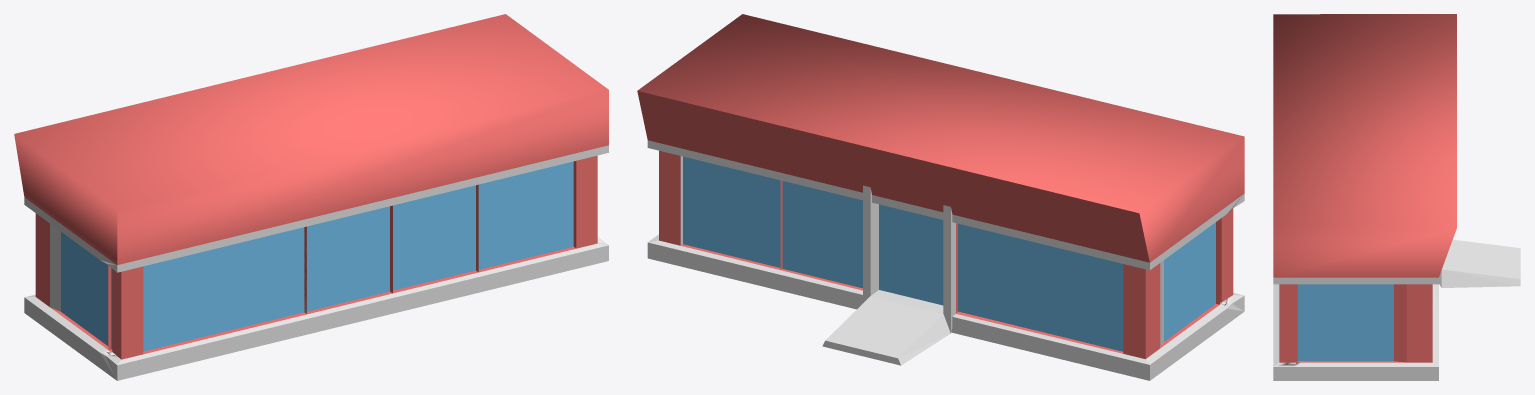
File: Shop5x2x2Red.fbx
The picture shows the model from 3 angles, left to right: view 1: azimuth 30°, elevation 25°; view 2: azimuth 150°, elevation 25°; view 3: azimuth 270°, elevation 25°; orthographic projection. The views are drawn at different scales.
Parts seen in each view (by area): view 1: Shop.002; view 2: Shop.002; view 3: Shop.002.
Part boxes in pixels (x1=…): Shop.002: x1=14, y1=14, x2=608, y2=380; Shop.002: x1=637, y1=14, x2=1244, y2=380; Shop.002: x1=1273, y1=14, x2=1520, y2=380.
Size of the model in its own units: 5.94 by 1.98 by 2.91.
1 material, 1 textured.
